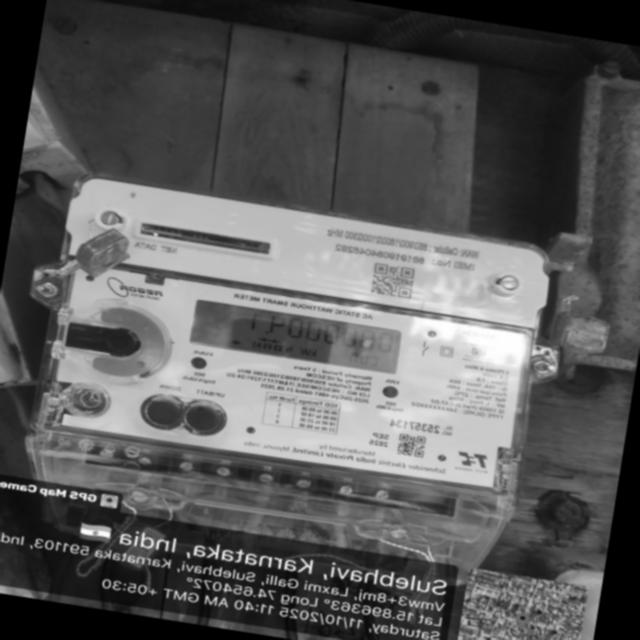meter: (34, 181, 546, 502)
